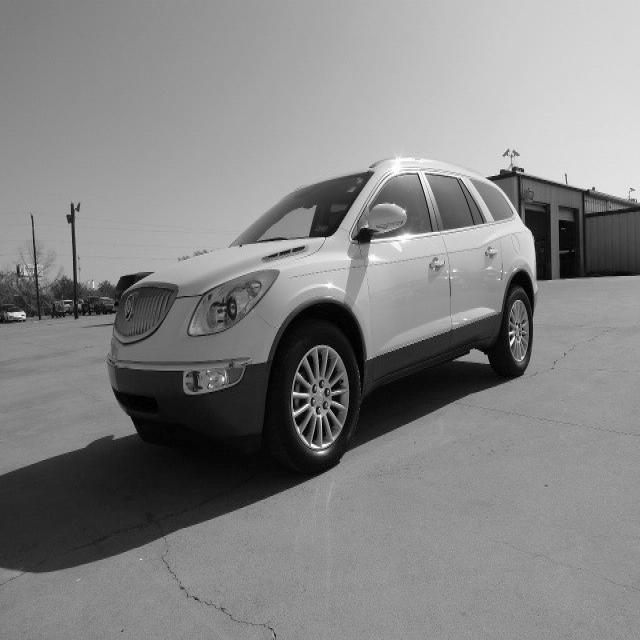car: (105, 155, 538, 473), (0, 304, 26, 323)
